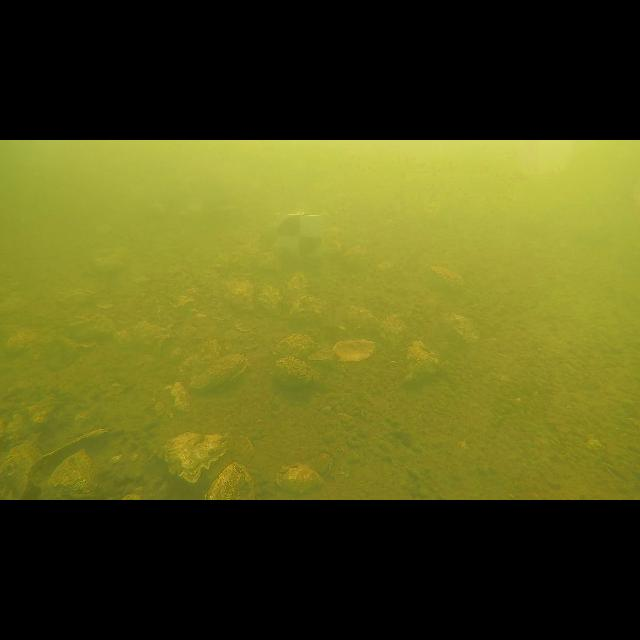Oyster-Closed: (164, 432, 252, 482), (46, 449, 104, 500), (0, 434, 41, 499), (187, 351, 246, 392), (178, 337, 224, 387), (205, 462, 255, 500), (65, 312, 116, 345), (118, 321, 172, 351), (404, 340, 441, 382), (276, 464, 324, 494), (426, 265, 465, 300), (275, 356, 319, 386), (274, 334, 318, 358), (225, 279, 254, 310), (445, 315, 478, 342), (346, 306, 380, 332), (289, 296, 322, 321), (56, 288, 99, 306), (380, 315, 406, 344), (286, 272, 310, 301), (259, 285, 282, 315)
Oyster-Open: (332, 339, 375, 361)
